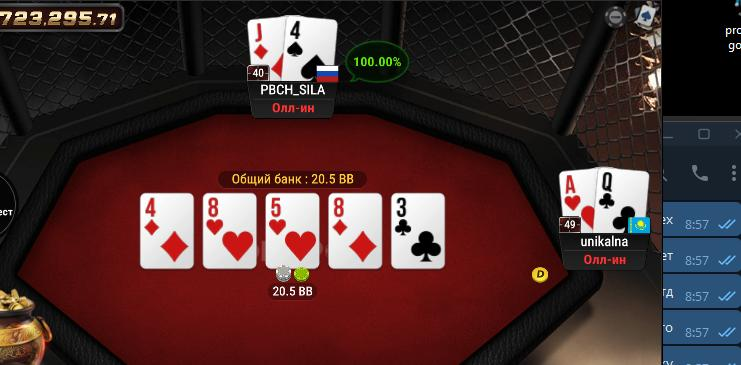3c: (392, 194, 444, 267)
4d: (141, 195, 194, 269)
4s: (284, 13, 337, 82)
5h: (266, 193, 319, 267)
8d: (329, 194, 382, 269)
8h: (204, 195, 255, 268)
Ah: (558, 169, 597, 234)
Jd: (245, 16, 284, 82)
Qc: (596, 165, 649, 234)
